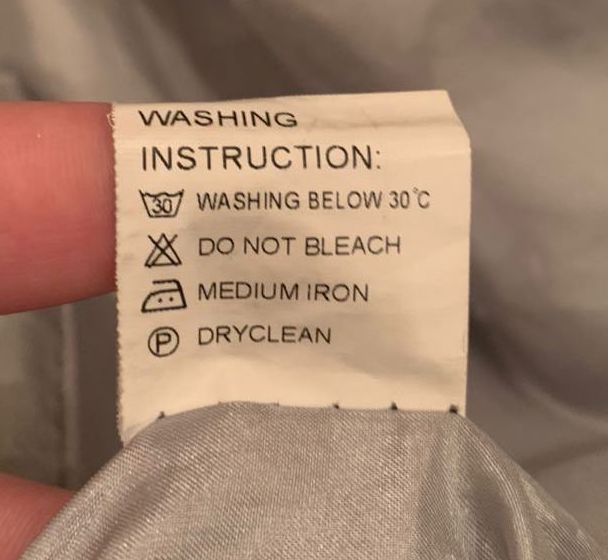do_not_bleach: (141, 228, 185, 269)
dry_clean_tetrachloroethylene_pce_only: (145, 323, 183, 359)
ironing_at_med_temp: (138, 276, 189, 315)
wash_at_or_below_30: (136, 184, 187, 222)
